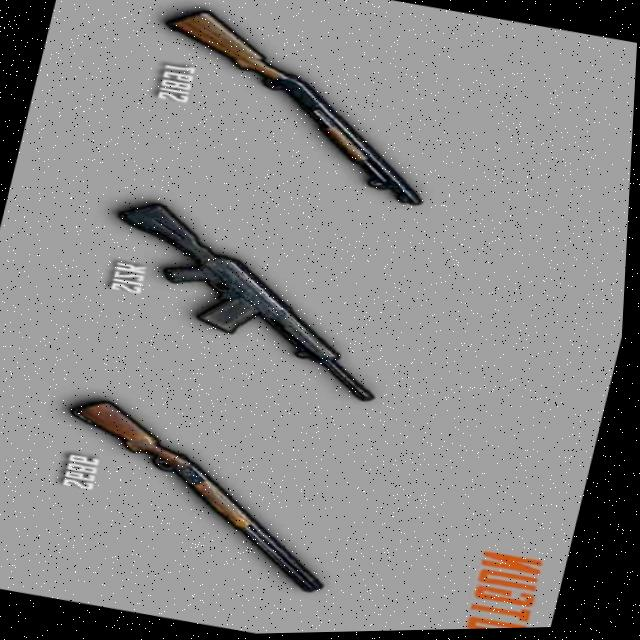firearm: (86, 191, 419, 409), (132, 0, 465, 213), (42, 390, 368, 601)
